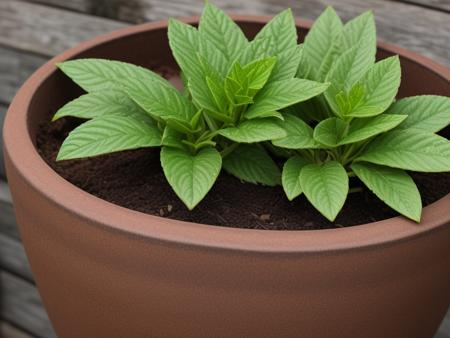pottedplant: (1, 1, 450, 337)
